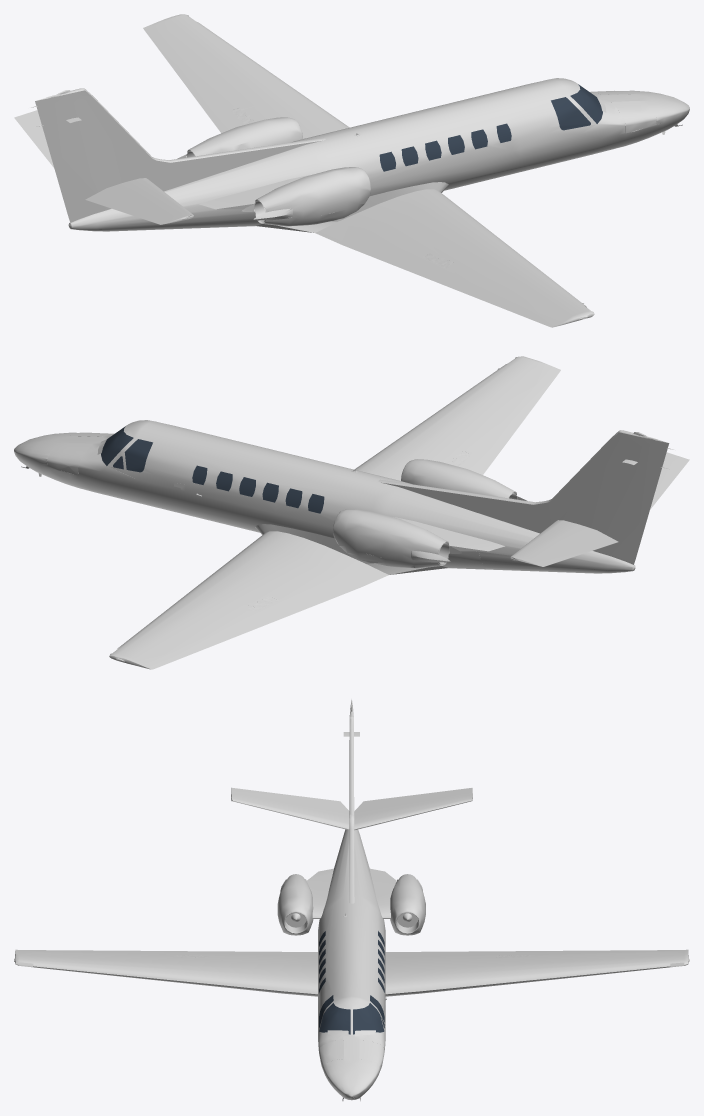
3 renders of one model, top to bottom at view 1: azimuth 30°, elevation 25°; view 2: azimuth 150°, elevation 25°; view 3: azimuth 270°, elevation 25°, orthographic. The views are drawn at different scales.
Visible parts, largest first — view 1: body, glass; view 2: body, glass; view 3: body, glass.
Boxes of the visible parts, x1,y1,x2,y2 form: body: [14, 14, 689, 327]; glass: [379, 84, 602, 171]; body: [14, 356, 689, 669]; glass: [101, 426, 324, 513]; body: [14, 699, 689, 1100]; glass: [319, 931, 384, 1034].
Bounding box in the file's own units: 2.04 × 0.5722 × 2.2.
